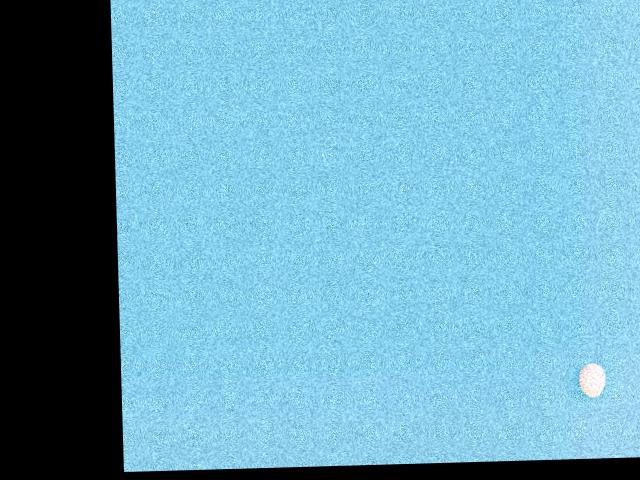egg: (578, 362, 606, 398)
